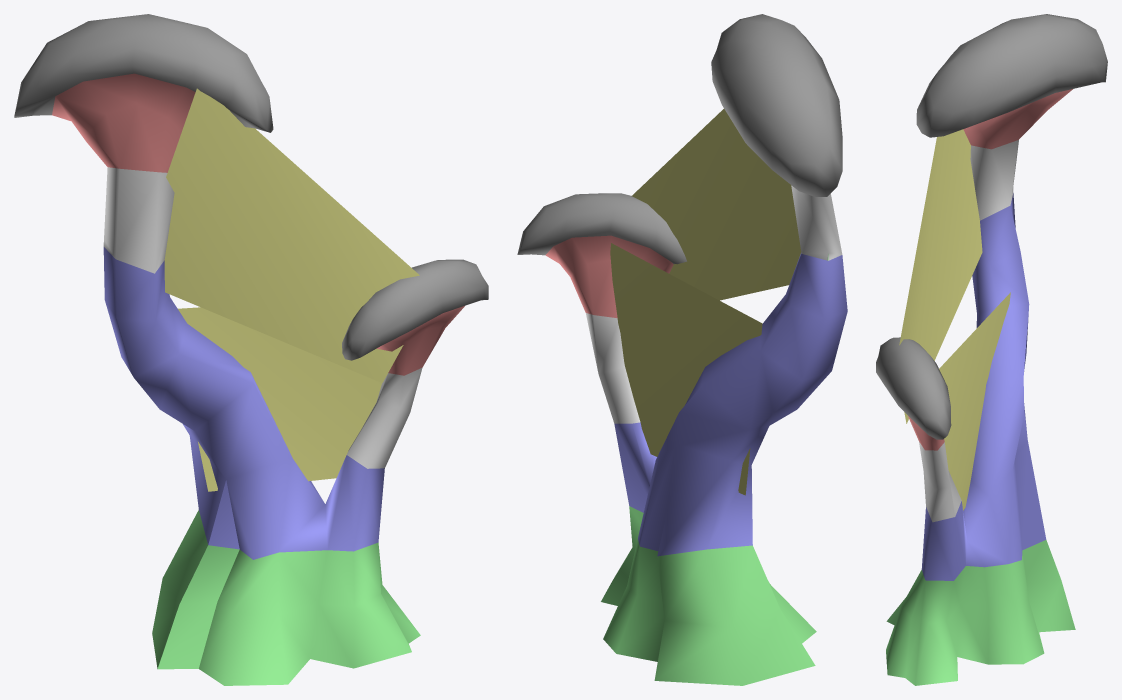
The model's file is Sporemushroom1.gltf.
3 views of the same model, side by side, from view 1: azimuth 30°, elevation 25°; view 2: azimuth 150°, elevation 25°; view 3: azimuth 270°, elevation 25° (orthographic). The views are drawn at different scales.
Parts seen in each view (by area): view 1: Sporemushroom1; view 2: Sporemushroom1; view 3: Sporemushroom1.
Boxes of the visible parts, <box> form: Sporemushroom1: <box>14,14,488,685</box>; Sporemushroom1: <box>517,14,847,685</box>; Sporemushroom1: <box>876,14,1107,685</box>.
Size of the model in its own units: 4.5 by 6.91 by 2.55.
